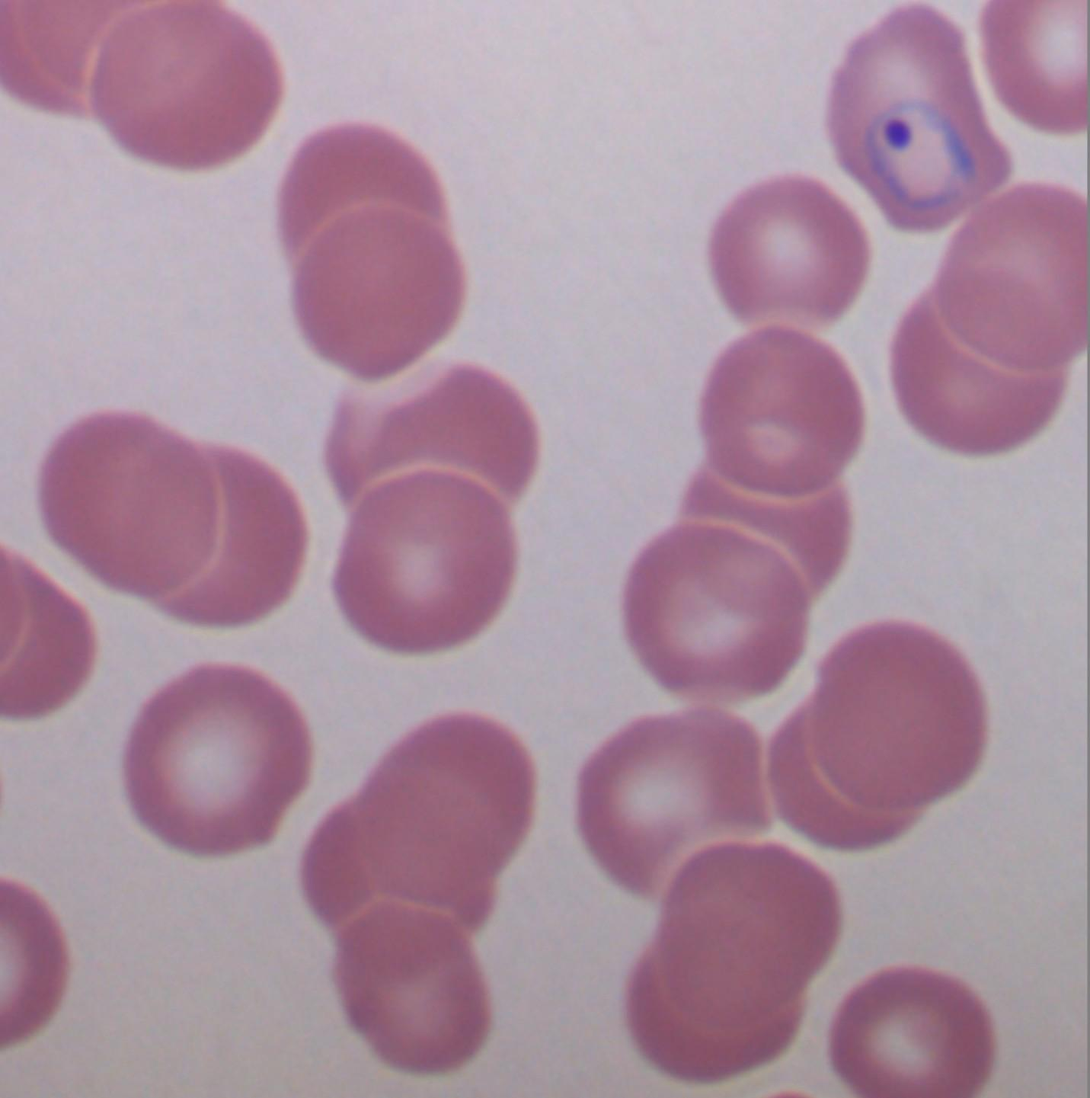Infected: (828, 0, 1013, 234)
Uninfected: (577, 709, 778, 901), (326, 359, 545, 534), (120, 661, 312, 859), (335, 465, 519, 656), (364, 709, 538, 906), (623, 522, 807, 705), (91, 0, 286, 171), (42, 410, 223, 592), (895, 267, 1069, 456), (659, 842, 841, 1022), (131, 440, 308, 625), (809, 623, 982, 808), (297, 787, 500, 942), (291, 204, 469, 374), (937, 183, 1090, 372), (626, 922, 801, 1081), (705, 324, 867, 493), (328, 903, 489, 1072), (276, 120, 448, 276), (705, 174, 868, 336), (828, 960, 996, 1098)
